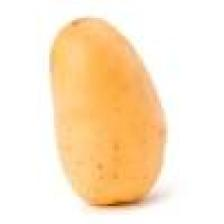Potato: (46, 13, 171, 209)
